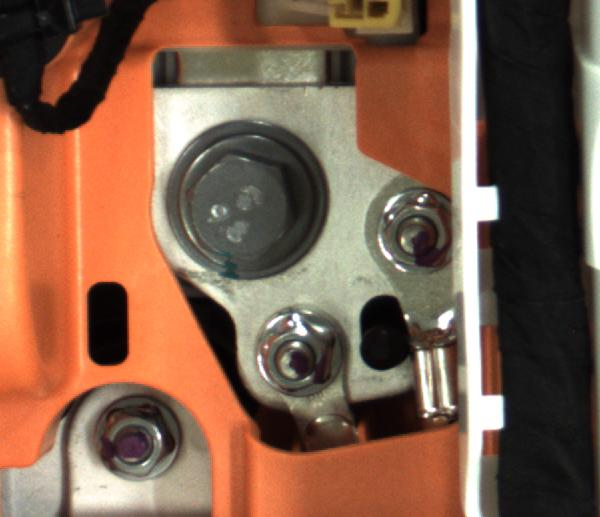nut_b: (153, 108, 334, 291)
screw_s: (231, 310, 352, 397), (366, 182, 463, 280), (94, 392, 192, 489)
